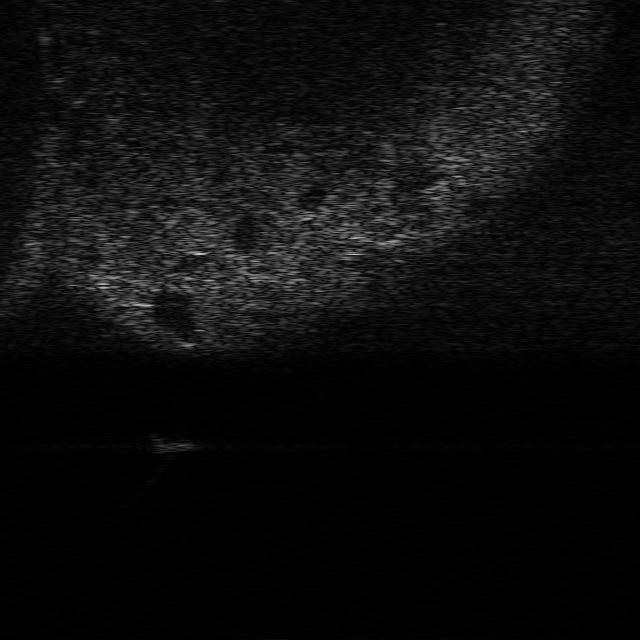cube: (142, 432, 198, 453)
